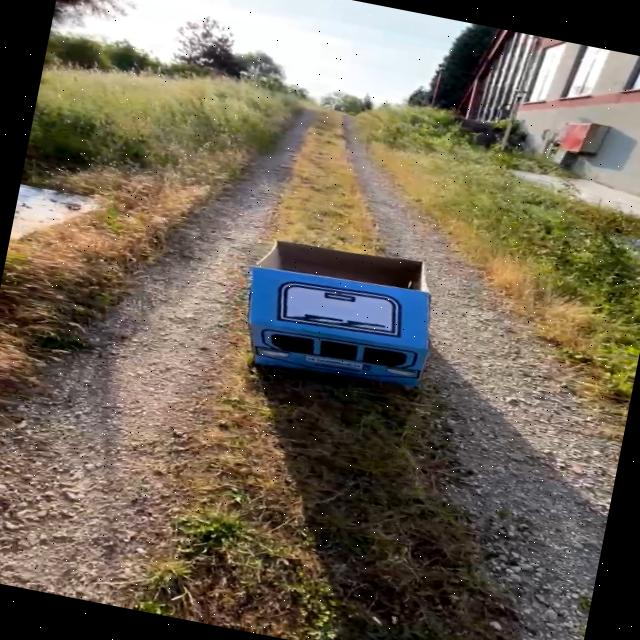blue_car: (201, 202, 483, 424)
